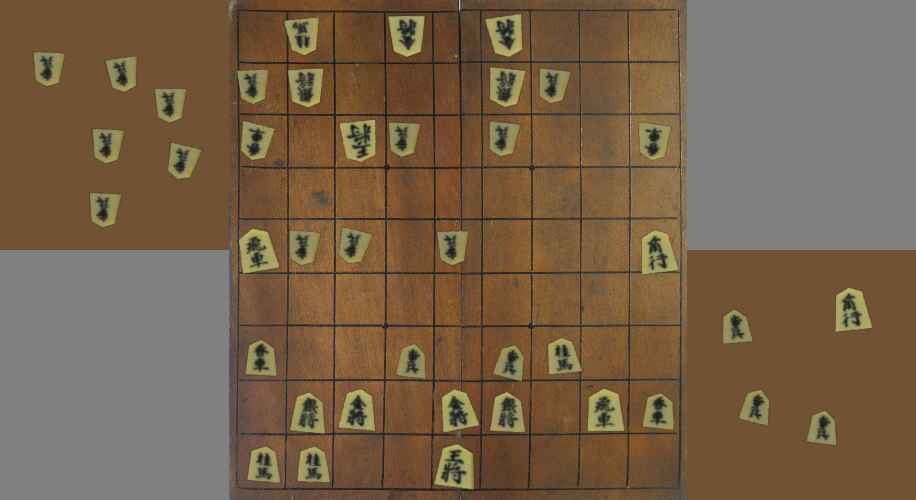A: (238, 227, 282, 273), (432, 443, 474, 488), (337, 389, 376, 434), (439, 389, 479, 432), (639, 230, 678, 274), (586, 388, 624, 432), (489, 392, 526, 435), (245, 444, 280, 484), (544, 337, 580, 374), (493, 343, 528, 381), (294, 447, 330, 483), (291, 394, 324, 433), (641, 392, 674, 430), (394, 342, 426, 379), (246, 341, 276, 375)
B: (486, 15, 522, 56), (239, 119, 273, 161), (282, 17, 319, 55), (390, 16, 424, 56), (490, 68, 525, 106), (341, 121, 374, 161), (386, 121, 420, 157), (289, 70, 322, 106), (487, 121, 519, 157), (436, 229, 468, 264), (340, 228, 371, 263), (640, 124, 670, 159), (290, 231, 320, 264), (238, 70, 268, 103), (542, 70, 569, 102)
C: (836, 289, 872, 331), (739, 391, 769, 425), (723, 310, 752, 344), (808, 412, 836, 445)
D: (168, 143, 201, 178), (34, 53, 64, 86), (107, 57, 136, 91), (91, 194, 120, 227), (156, 90, 185, 122), (94, 130, 122, 162)
